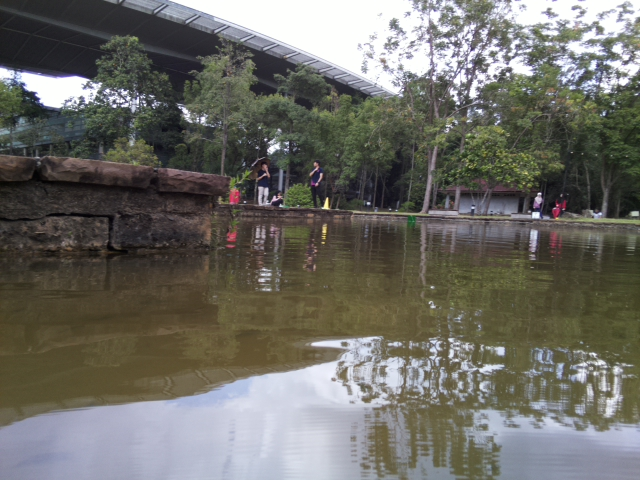checkpoint: (320, 196, 332, 211)
obstacle: (406, 214, 417, 223)
